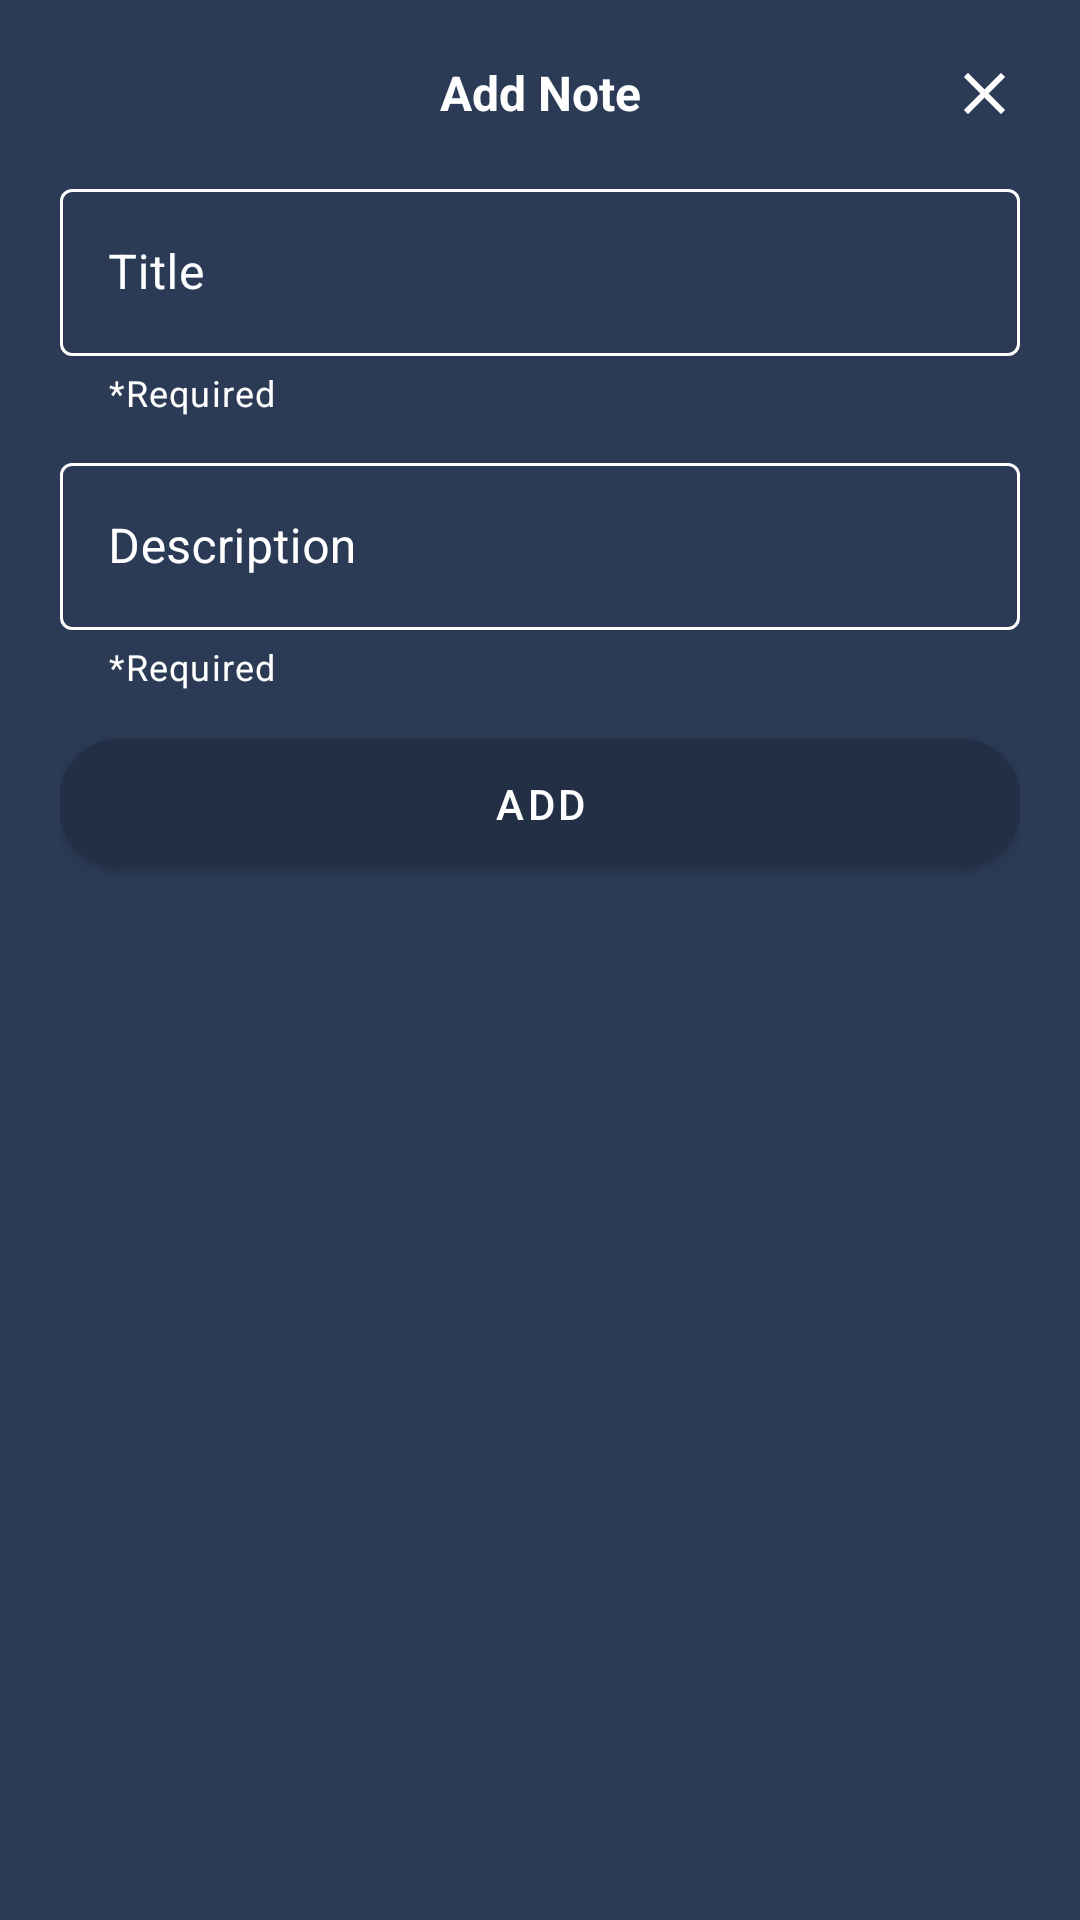

Named icons in this screenshot (1080px×1920px) and their centers, (x,y):
close: (984,93)
